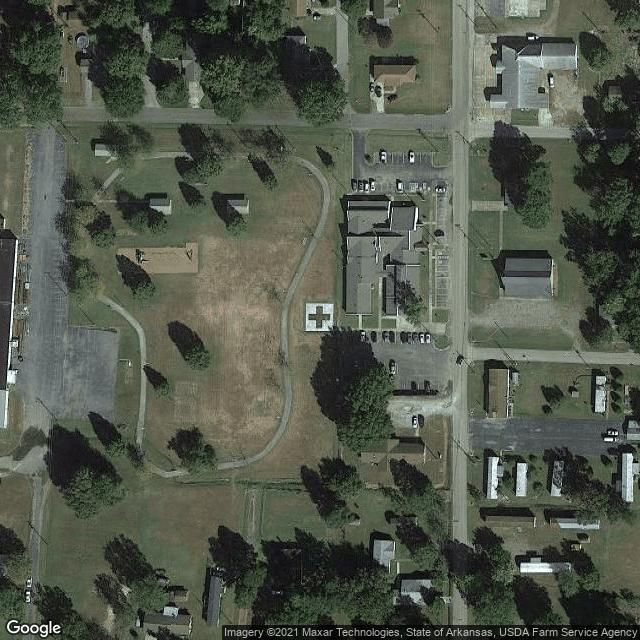Helipad: (303, 299, 335, 334)
